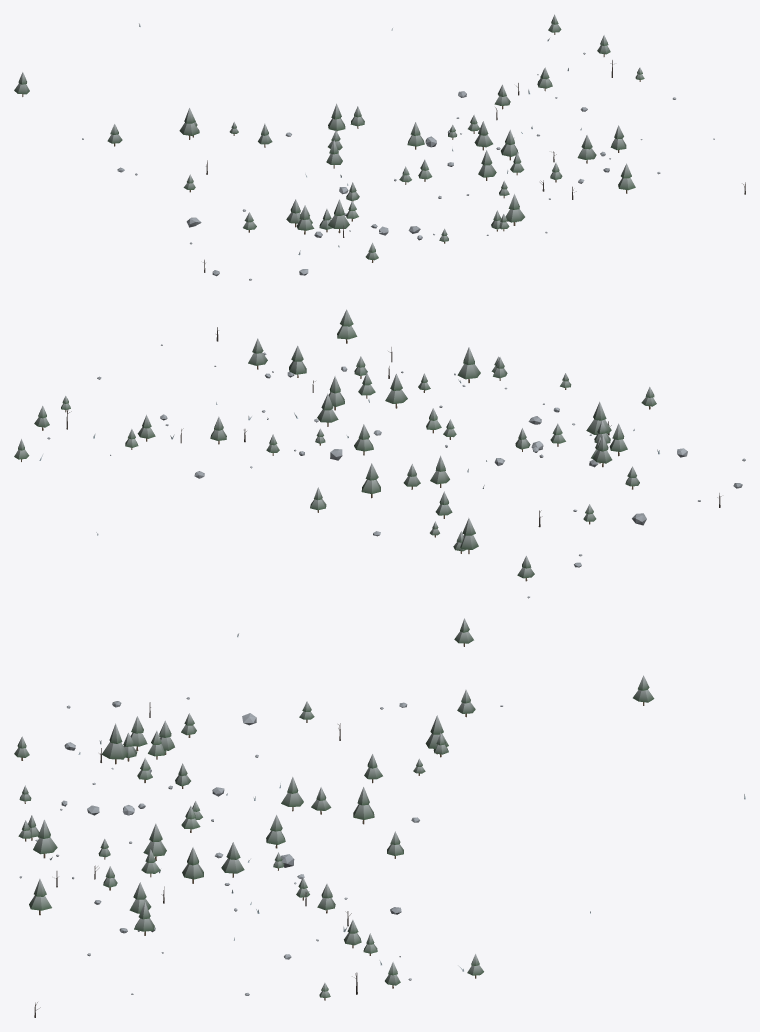
Rendered from frost_land_scatter_c15_10_lod1.glb.
The picture shows the model from 3 angles, top to bottom: view 1: azimuth 30°, elevation 25°; view 2: azimuth 150°, elevation 25°; view 3: azimuth 270°, elevation 25°; orthographic projection. The views are drawn at different scales.
Visible parts, largest first — view 1: frost_land_scatter_c15_10_lod1; view 2: frost_land_scatter_c15_10_lod1; view 3: frost_land_scatter_c15_10_lod1.
Boxes of the visible parts, x1,y1,x2,y2 form: frost_land_scatter_c15_10_lod1: [14, 14, 745, 280]; frost_land_scatter_c15_10_lod1: [14, 309, 745, 646]; frost_land_scatter_c15_10_lod1: [14, 675, 745, 1017].
Bounding box in the file's own units: 251 × 28.69 × 254.
